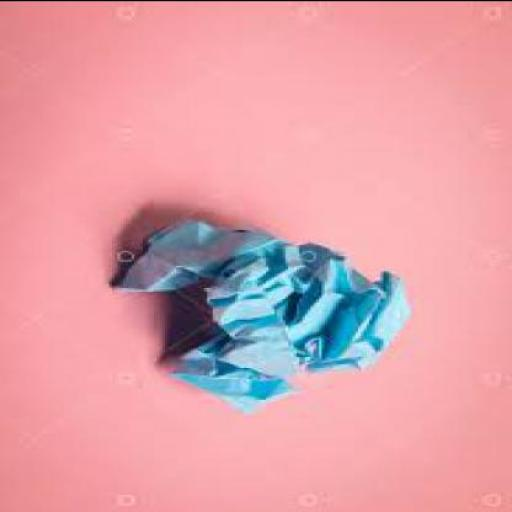paper: (112, 215, 414, 410)
